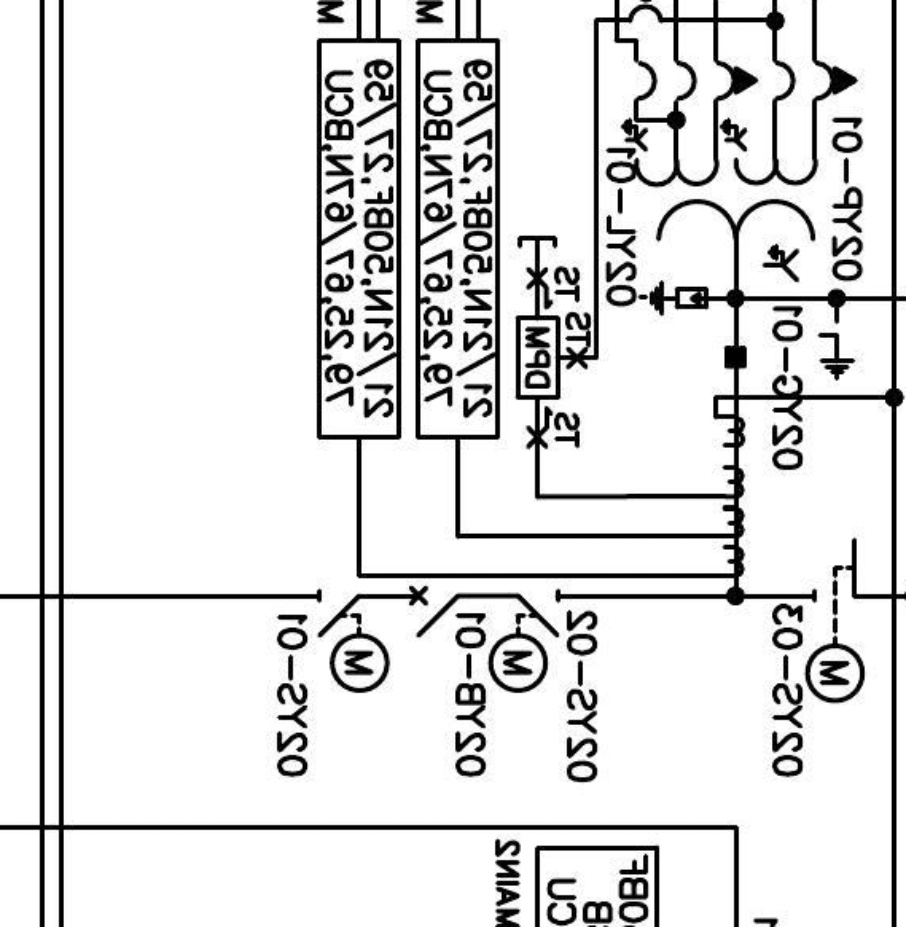115_1way_ds_w_motor: (803, 536, 865, 707), (315, 588, 391, 696), (487, 588, 562, 696)
115_breaker: (408, 585, 459, 639)
115_gs: (817, 317, 857, 383)
115_la: (637, 279, 709, 318)
115_vt_3p: (620, 59, 859, 284)
DPM: (515, 317, 561, 402)
